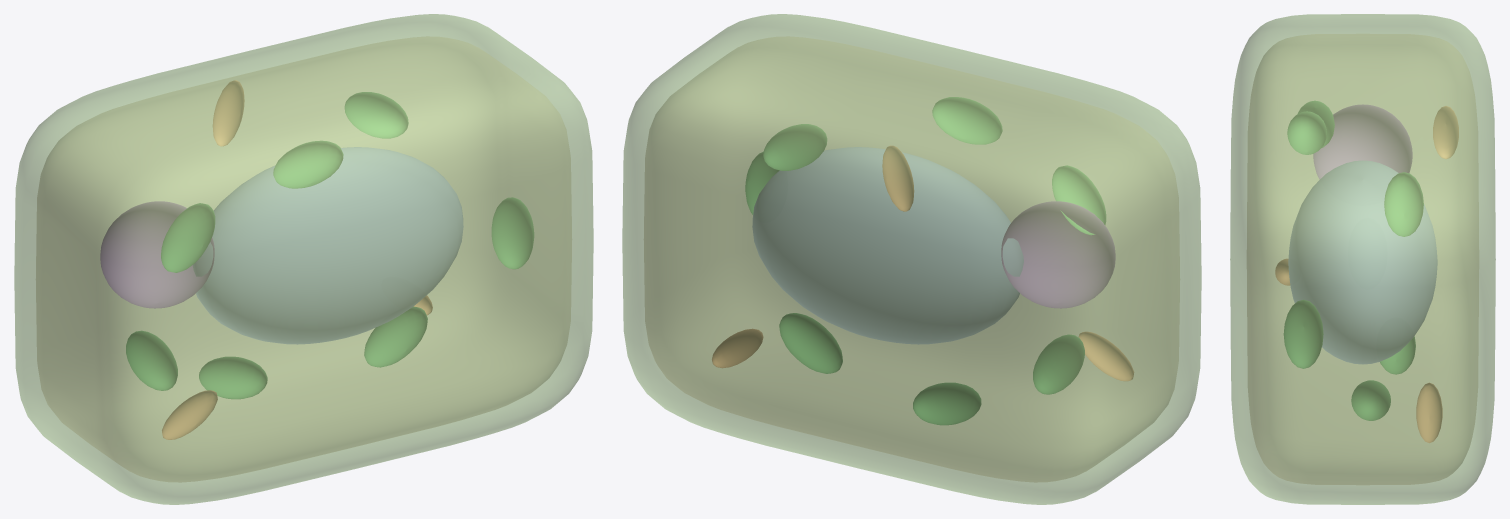
Rendered from plant_cell_v1.glb.
The picture shows the model from 3 angles, left to right: view 1: azimuth 30°, elevation 25°; view 2: azimuth 150°, elevation 25°; view 3: azimuth 270°, elevation 25°; orthographic projection. The views are drawn at different scales.
Parts seen in each view (by area): view 1: cell_wall, cell_membrane, central_vacuole, chloroplasts, nucleus, mitochondria; view 2: cell_wall, cell_membrane, central_vacuole, chloroplasts, nucleus, mitochondria; view 3: cell_wall, cell_membrane, central_vacuole, chloroplasts, nucleus, mitochondria.
Part boxes in pixels (x1,y1,x2,y2): cell_wall: [14, 14, 593, 504]; cell_membrane: [36, 36, 571, 482]; central_vacuole: [193, 147, 463, 344]; chloroplasts: [126, 92, 534, 399]; nucleus: [100, 201, 214, 308]; mitochondria: [162, 80, 432, 439]; cell_wall: [622, 14, 1201, 504]; cell_membrane: [644, 36, 1179, 482]; central_vacuole: [752, 147, 1023, 344]; chloroplasts: [745, 97, 1106, 425]; nucleus: [1001, 201, 1115, 308]; mitochondria: [712, 145, 1134, 381]; cell_wall: [1230, 14, 1495, 504]; cell_membrane: [1247, 34, 1478, 484]; central_vacuole: [1288, 160, 1437, 364]; chloroplasts: [1283, 100, 1423, 420]; nucleus: [1313, 104, 1412, 179]; mitochondria: [1275, 106, 1458, 442].
Size of the model in its own units: 3.2 by 2.2 by 1.6.
